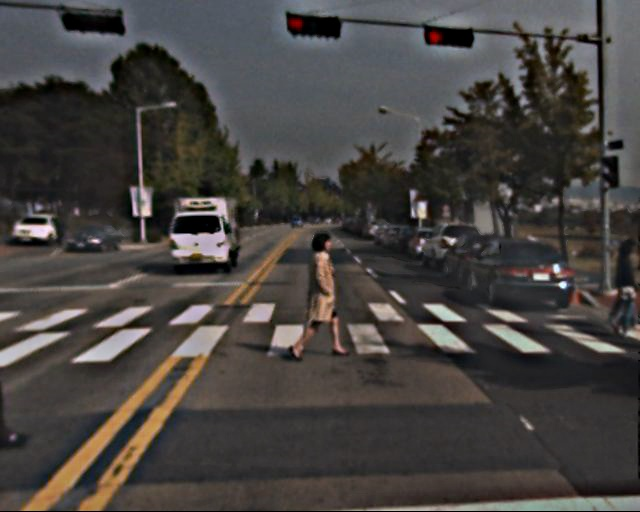person: (288, 230, 348, 360), (602, 238, 640, 334)
